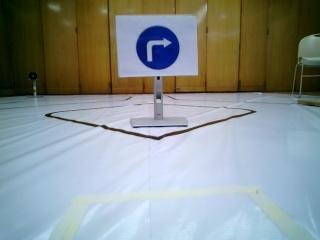right: (118, 15, 194, 73)
